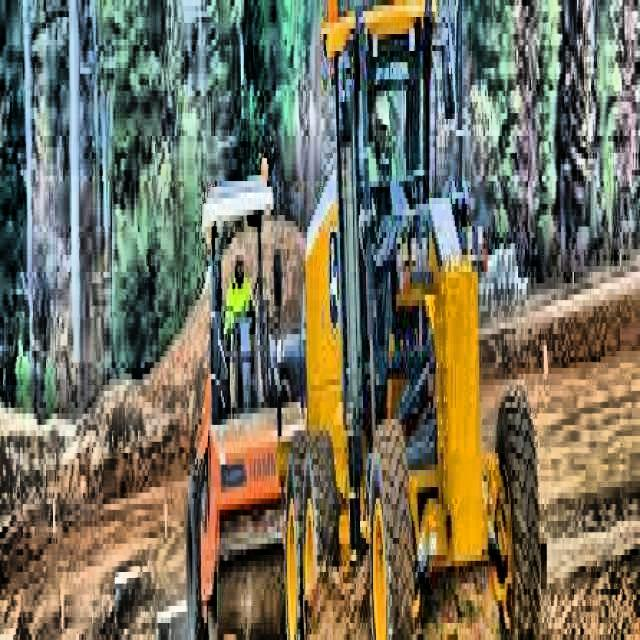bull_dozer/loader/grader: (281, 0, 542, 640), (185, 165, 310, 640)
person: (368, 88, 400, 185), (221, 240, 255, 330)
